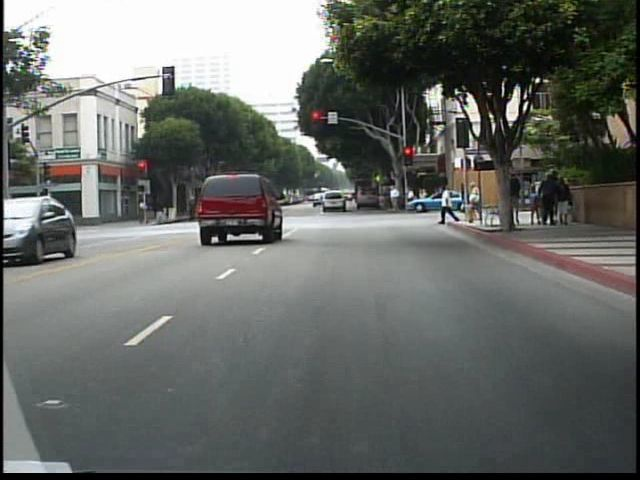person: (524, 181, 543, 227), (439, 184, 459, 226), (510, 172, 524, 228), (468, 179, 483, 226), (458, 182, 472, 225), (186, 191, 198, 225), (138, 197, 147, 226)
